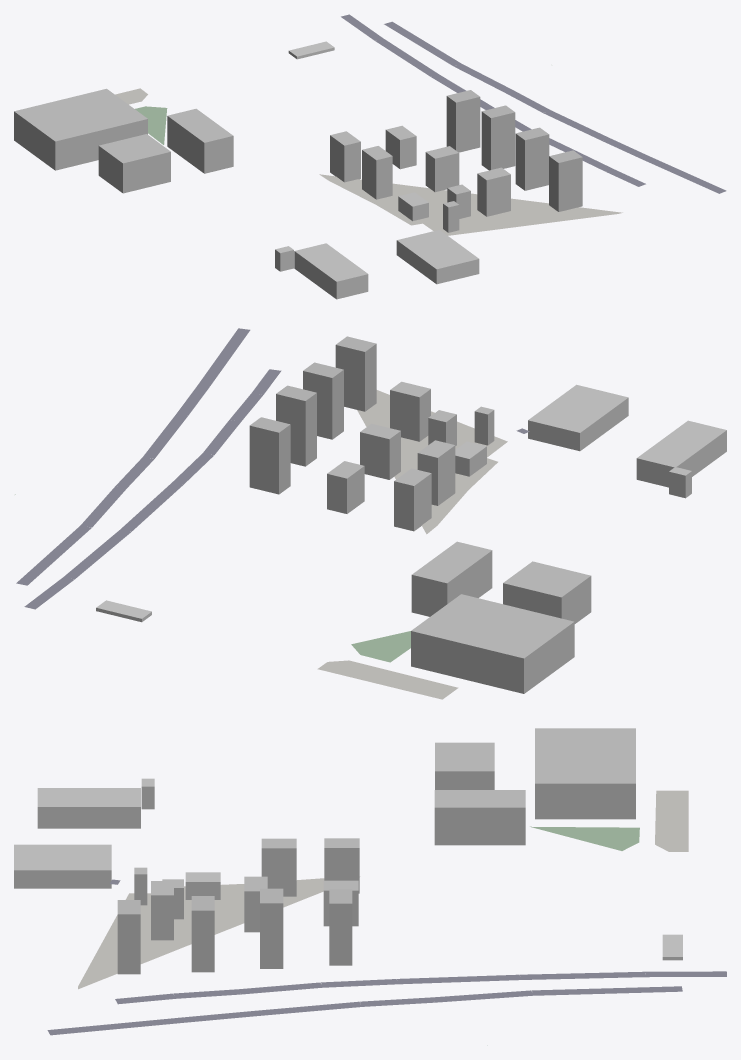
File: 127_78_mid.glb
3 views of the same model, one above another, from view 1: azimuth 30°, elevation 25°; view 2: azimuth 150°, elevation 25°; view 3: azimuth 270°, elevation 25° (orthographic). The views are drawn at different scales.
Bounding box in the file's own units: 552 × 61.6 × 584.
